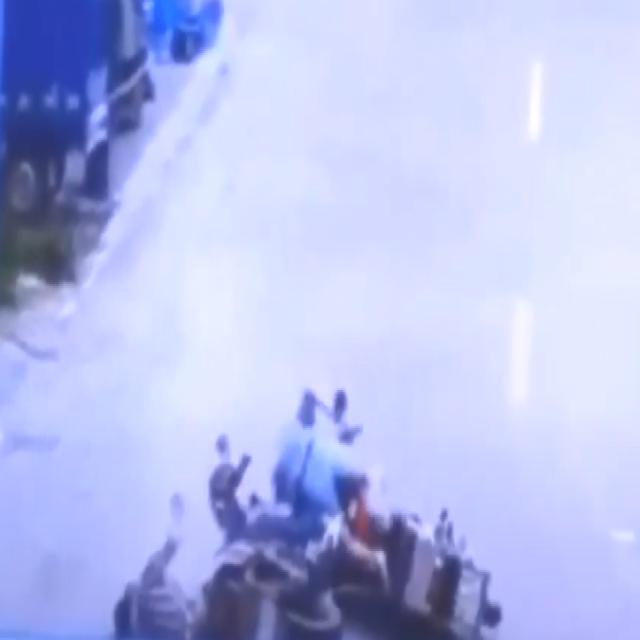accident: (113, 388, 495, 640)
